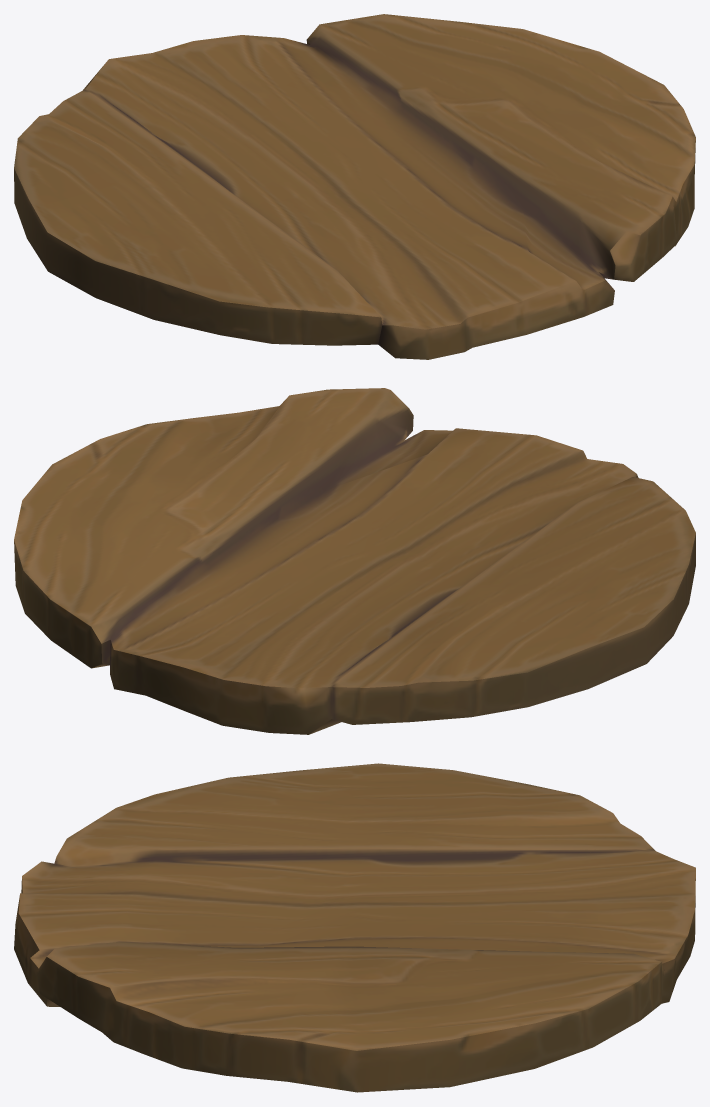
File: SM_FW01_Barrel_Lid_A_01.fbx
3 renders of one model, top to bottom at view 1: azimuth 30°, elevation 25°; view 2: azimuth 150°, elevation 25°; view 3: azimuth 270°, elevation 25°, orthographic.
Visible parts, largest first — view 1: SM_FW01_Barrel_Lid_A_01_LOD0; view 2: SM_FW01_Barrel_Lid_A_01_LOD0; view 3: SM_FW01_Barrel_Lid_A_01_LOD0.
Boxes of the visible parts, x1,y1,x2,y2 form: SM_FW01_Barrel_Lid_A_01_LOD0: [14, 14, 695, 359]; SM_FW01_Barrel_Lid_A_01_LOD0: [14, 388, 695, 734]; SM_FW01_Barrel_Lid_A_01_LOD0: [14, 763, 695, 1092].
Size of what is drawn, in the model's own units: 0.713 by 0.0789 by 0.694.
